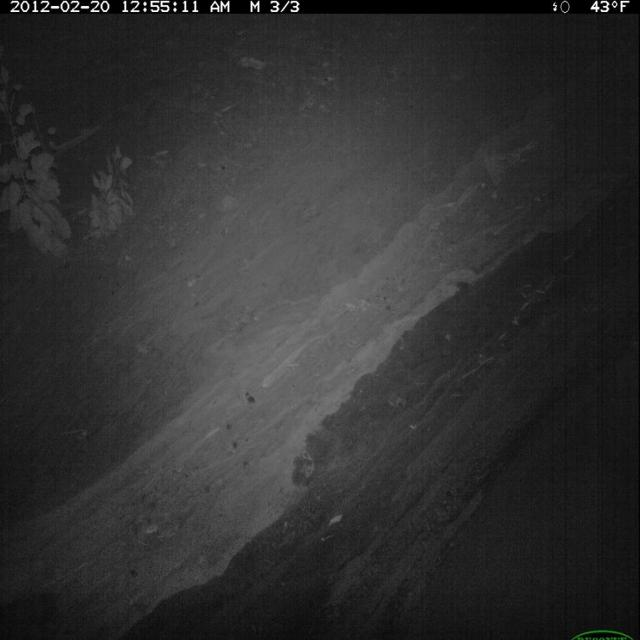raccoon: (6, 588, 64, 640)
